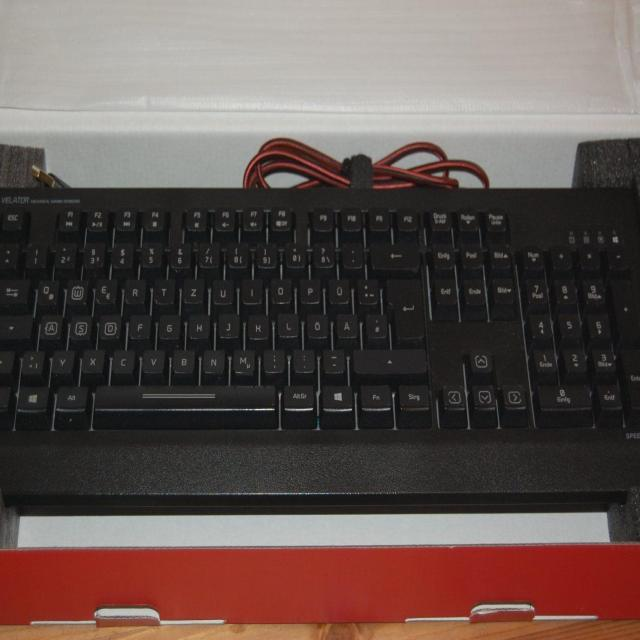0: (282, 240, 305, 266)
1: (22, 240, 46, 268)
2: (52, 239, 75, 267)
3: (81, 238, 104, 267)
4: (110, 238, 133, 268)
5: (138, 238, 161, 266)
6: (167, 239, 189, 266)
7: (196, 238, 218, 266)
8: (224, 238, 247, 267)
9: (253, 240, 276, 267)
a: (38, 312, 60, 338)
accent: (339, 239, 362, 266)
ae: (334, 310, 357, 337)
alt-left: (53, 382, 87, 408)
altgr-right: (280, 381, 314, 408)
b: (170, 345, 194, 372)
c: (109, 345, 134, 373)
caret: (0, 240, 17, 267)
comma: (261, 345, 283, 371)
d: (97, 310, 119, 337)
del: (368, 240, 419, 268)
e: (92, 273, 116, 303)
enter: (384, 275, 424, 339)
f: (127, 310, 150, 338)
g: (156, 311, 179, 337)
h: (186, 310, 209, 337)
hash: (363, 310, 386, 337)
i: (239, 274, 261, 301)
j: (216, 309, 238, 336)
k: (245, 311, 268, 338)
keyboard: (0, 177, 640, 446)
l: (275, 309, 298, 336)
less: (18, 346, 43, 373)
m: (230, 344, 253, 371)
minus: (321, 344, 343, 371)
n: (201, 345, 224, 372)
o: (268, 274, 290, 301)
oe: (304, 310, 327, 336)
p: (297, 274, 319, 301)
plus: (355, 274, 377, 303)
point: (291, 346, 313, 370)
q: (34, 273, 58, 306)
r: (122, 274, 145, 303)
s: (67, 313, 90, 338)
shift-left: (0, 347, 16, 372)
shift-lock: (0, 312, 32, 339)
shift-right: (350, 346, 425, 372)
space: (88, 381, 276, 413)
ss: (310, 239, 333, 266)
strg-left: (0, 382, 17, 408)
strg-right: (395, 381, 429, 407)
t: (151, 273, 174, 302)
tab: (0, 274, 29, 308)
u: (210, 274, 232, 303)
ue: (326, 273, 348, 302)
v: (139, 345, 163, 371)
w: (65, 274, 87, 303)
x: (79, 345, 103, 372)
y: (48, 346, 73, 372)
z: (180, 273, 203, 302)
